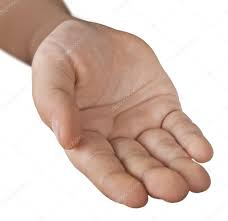palm: (51, 33, 166, 147)
